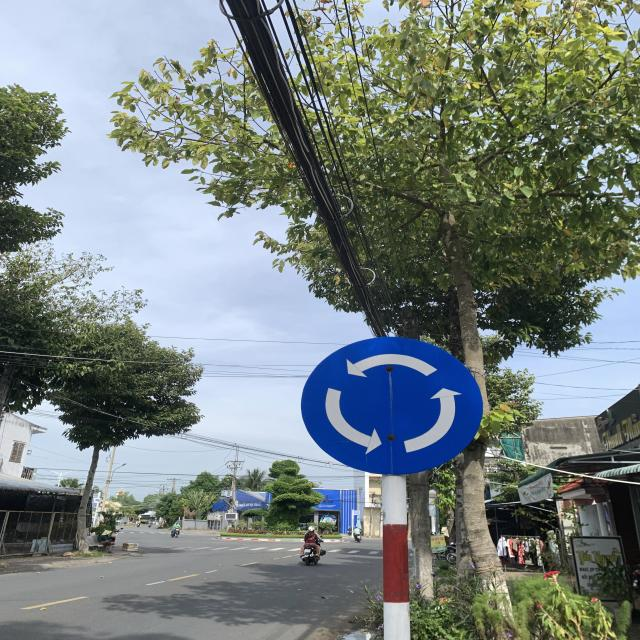Xe_Bus: (296, 334, 486, 476)
